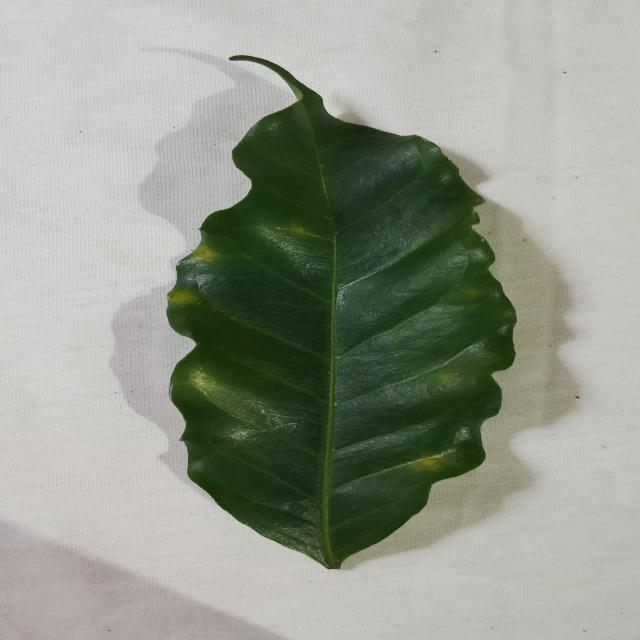Enfermedad-Roya: (165, 55, 517, 572)
